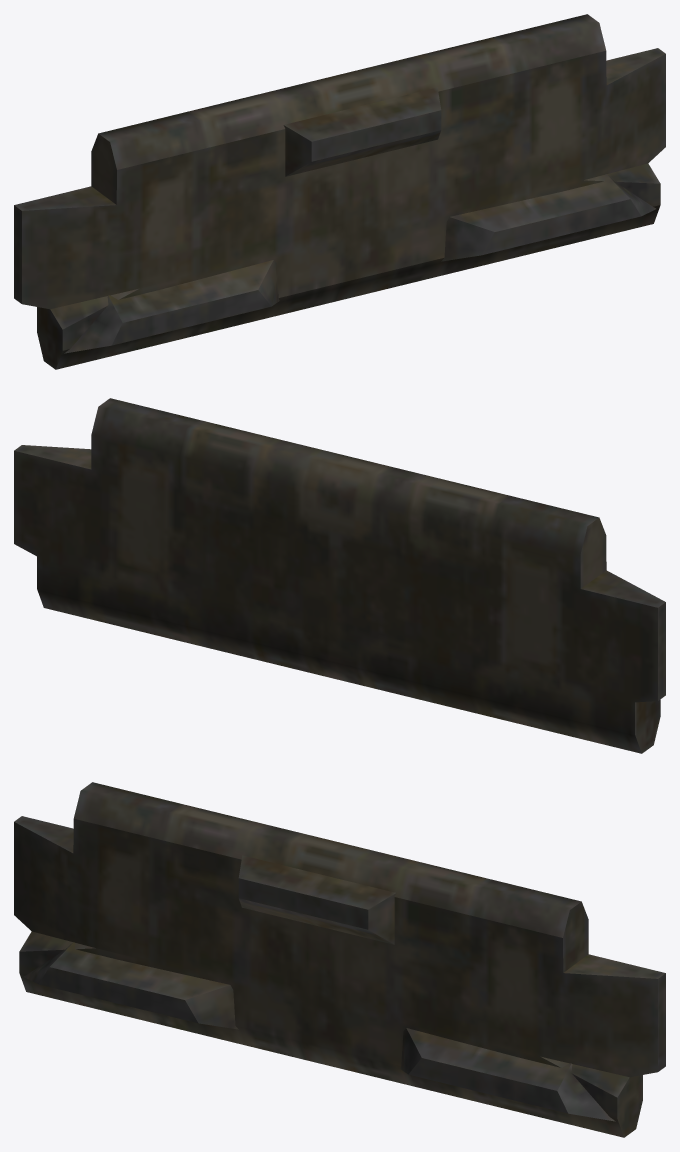
The picture shows the model from 3 angles, top to bottom: view 1: azimuth 30°, elevation 25°; view 2: azimuth 150°, elevation 25°; view 3: azimuth 330°, elevation 25°; orthographic projection.
Visible parts, largest first — view 1: set_0_group_0; view 2: set_0_group_0; view 3: set_0_group_0.
Part boxes in pixels (x1=…): set_0_group_0: x1=14, y1=14, x2=665, y2=369; set_0_group_0: x1=14, y1=398, x2=665, y2=753; set_0_group_0: x1=14, y1=782, x2=665, y2=1137.
Size of the model in its own units: 0.65 by 0.2067 by 0.0708.
1 material, 1 textured.
